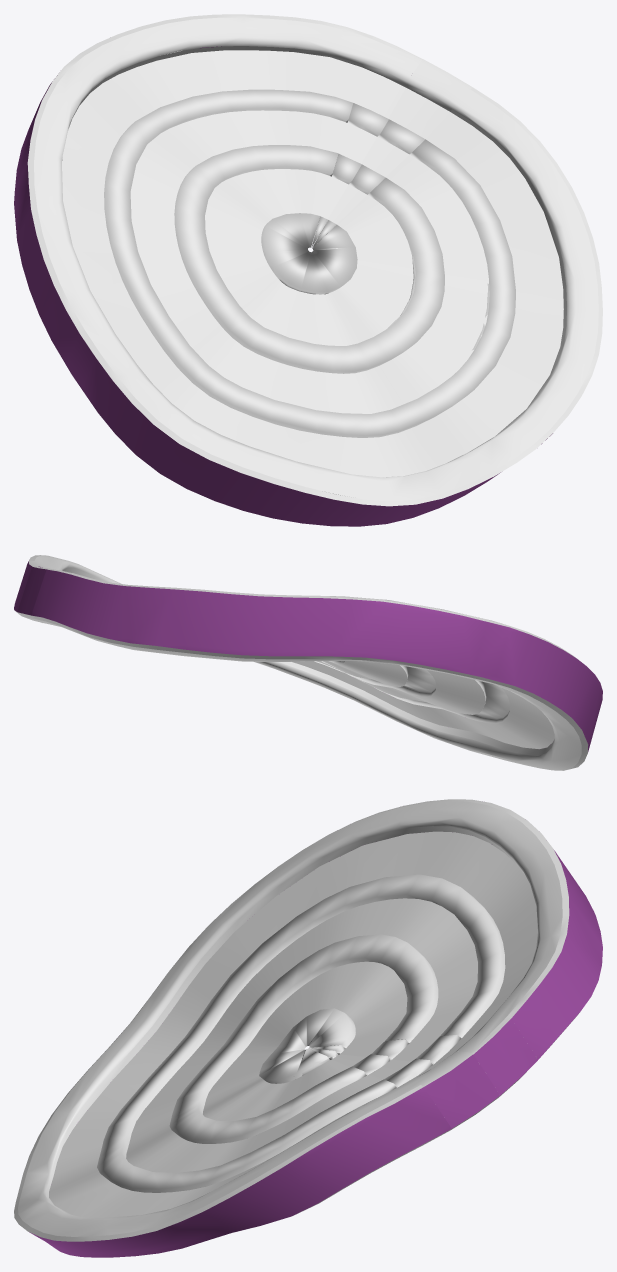
The model's file is Sog╠åan 2.fbx.
The picture shows the model from 3 angles, top to bottom: view 1: azimuth 30°, elevation 25°; view 2: azimuth 150°, elevation 25°; view 3: azimuth 270°, elevation 25°; orthographic projection. The views are drawn at different scales.
Parts seen in each view (by area): view 1: Cube.004, Cube.003, Cube.002; view 2: Cube.002, Cube.003, Cube.004; view 3: Cube.003, Cube.004, Cube.002.
Boxes of the visible parts, box(x1,y1,x2,y2) form: Cube.004: box(62, 50, 563, 477); Cube.003: box(27, 14, 602, 506); Cube.002: box(14, 46, 552, 526); Cube.002: box(14, 561, 602, 751); Cube.003: box(15, 555, 588, 770); Cube.004: box(72, 573, 554, 749); Cube.003: box(14, 799, 578, 1241); Cube.004: box(49, 831, 537, 1217); Cube.002: box(29, 832, 602, 1257).
Size of the model in its own units: 11.75 by 7.11 by 10.83.
